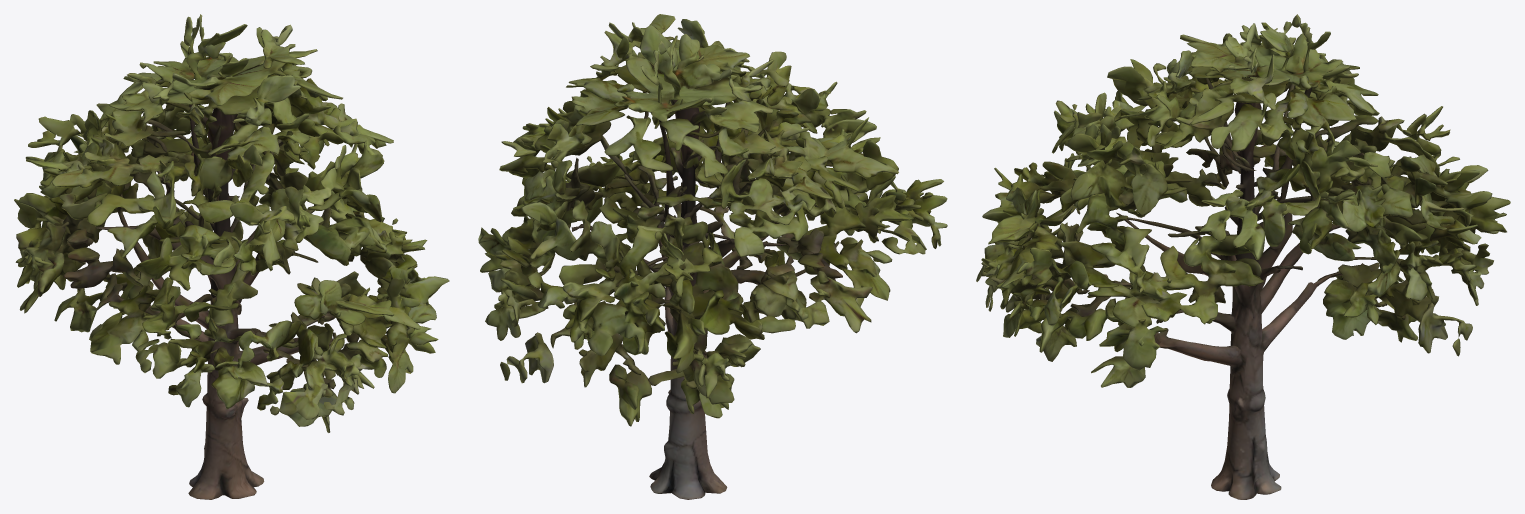
Rendered from nature-tree-ash.glb.
3 renders of one model, left to right at view 1: azimuth 30°, elevation 25°; view 2: azimuth 150°, elevation 25°; view 3: azimuth 270°, elevation 25°, orthographic. The views are drawn at different scales.
Parts seen in each view (by area): view 1: tripo_node_31b6366c-2b92-483c-a85a-ad374c9f1ed5; view 2: tripo_node_31b6366c-2b92-483c-a85a-ad374c9f1ed5; view 3: tripo_node_31b6366c-2b92-483c-a85a-ad374c9f1ed5.
Boxes of the visible parts, <box> form: tripo_node_31b6366c-2b92-483c-a85a-ad374c9f1ed5: <box>14,14,449,499</box>; tripo_node_31b6366c-2b92-483c-a85a-ad374c9f1ed5: <box>478,14,947,499</box>; tripo_node_31b6366c-2b92-483c-a85a-ad374c9f1ed5: <box>976,14,1510,499</box>.
Size of the model in its own units: 7.41 by 9 by 9.31.
Materials: 1 (1 with a texture image).
